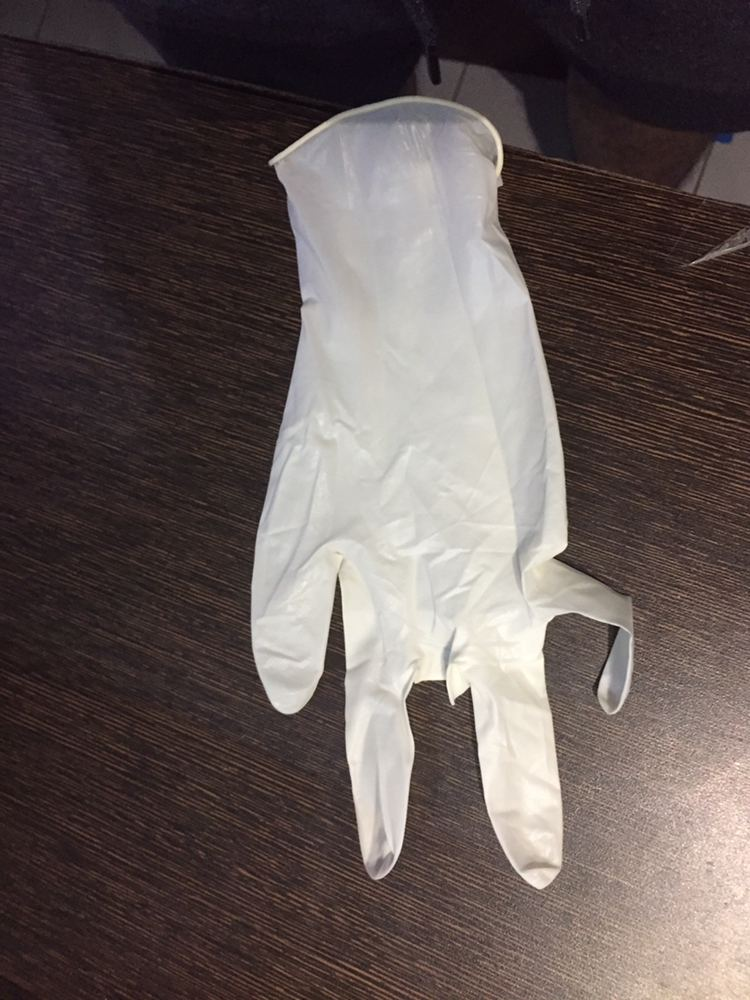defected: (212, 181, 683, 895)
